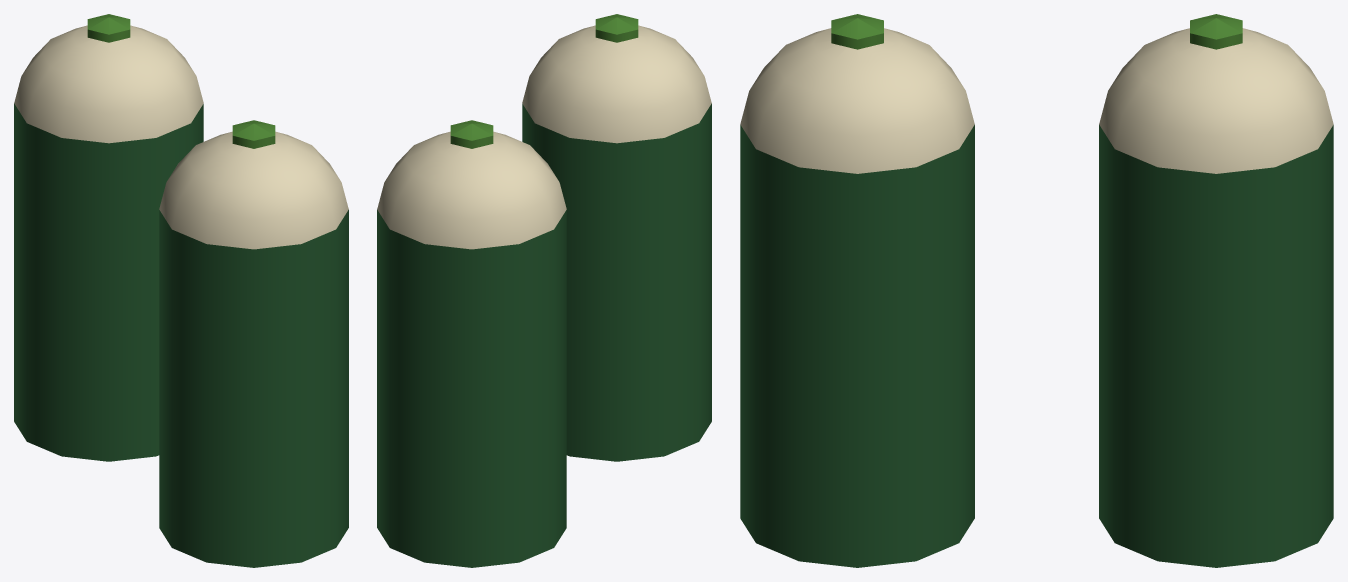
3 views of the same model, side by side, from view 1: azimuth 30°, elevation 25°; view 2: azimuth 150°, elevation 25°; view 3: azimuth 270°, elevation 25° (orthographic). The views are drawn at different scales.
Visible parts, largest first — view 1: u500_o2; view 2: u500_o2; view 3: u500_o2.
Part boxes in pixels (x1,y1,x2,y2): u500_o2: (14, 14, 348, 567); u500_o2: (377, 14, 711, 567); u500_o2: (740, 14, 1333, 567).
Bounding box in the file's own units: 1.7 × 4 × 4.3.
